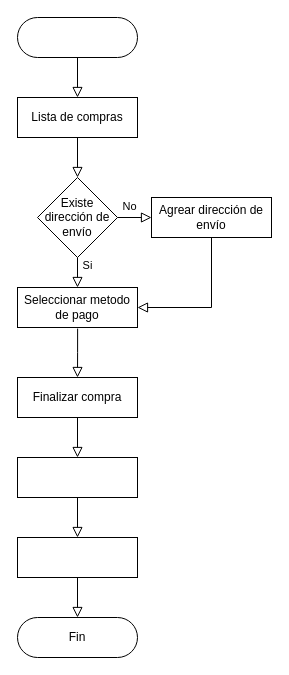
Some shapes in this 289 by 675 pixel diagram are drawn without their labels. The shapes that lost their labels are listed below. From the top down, each one's centre as x and y in pixels, then its label:
(x=77, y=37): Inicio
(x=77, y=477): # de orden
(x=77, y=557): Seguimiento de pedido
